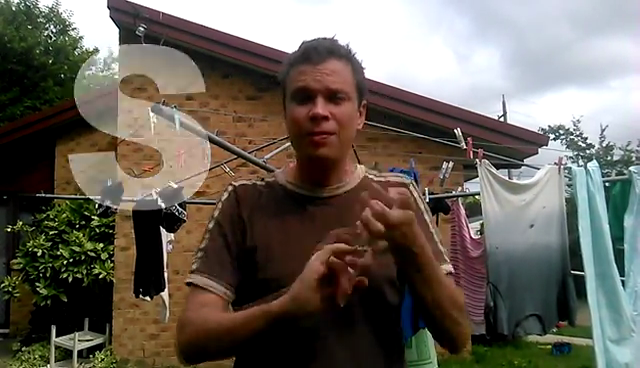S: (294, 185, 418, 323)
